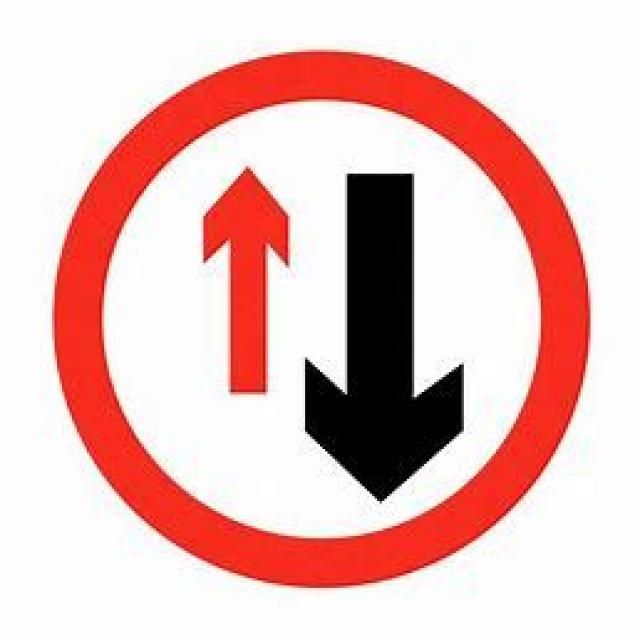PRIORITY_FOR_ONCOMING_VEHICLES: (49, 44, 590, 586)
